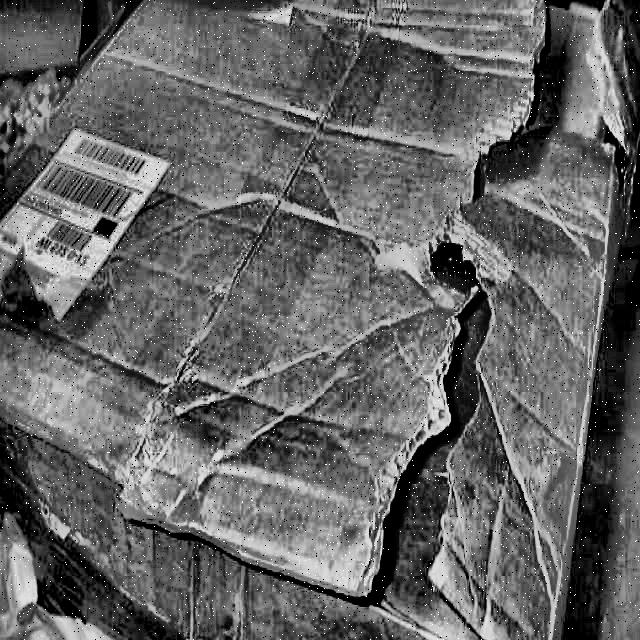box: (1, 0, 640, 639)
hole: (357, 6, 608, 616)
